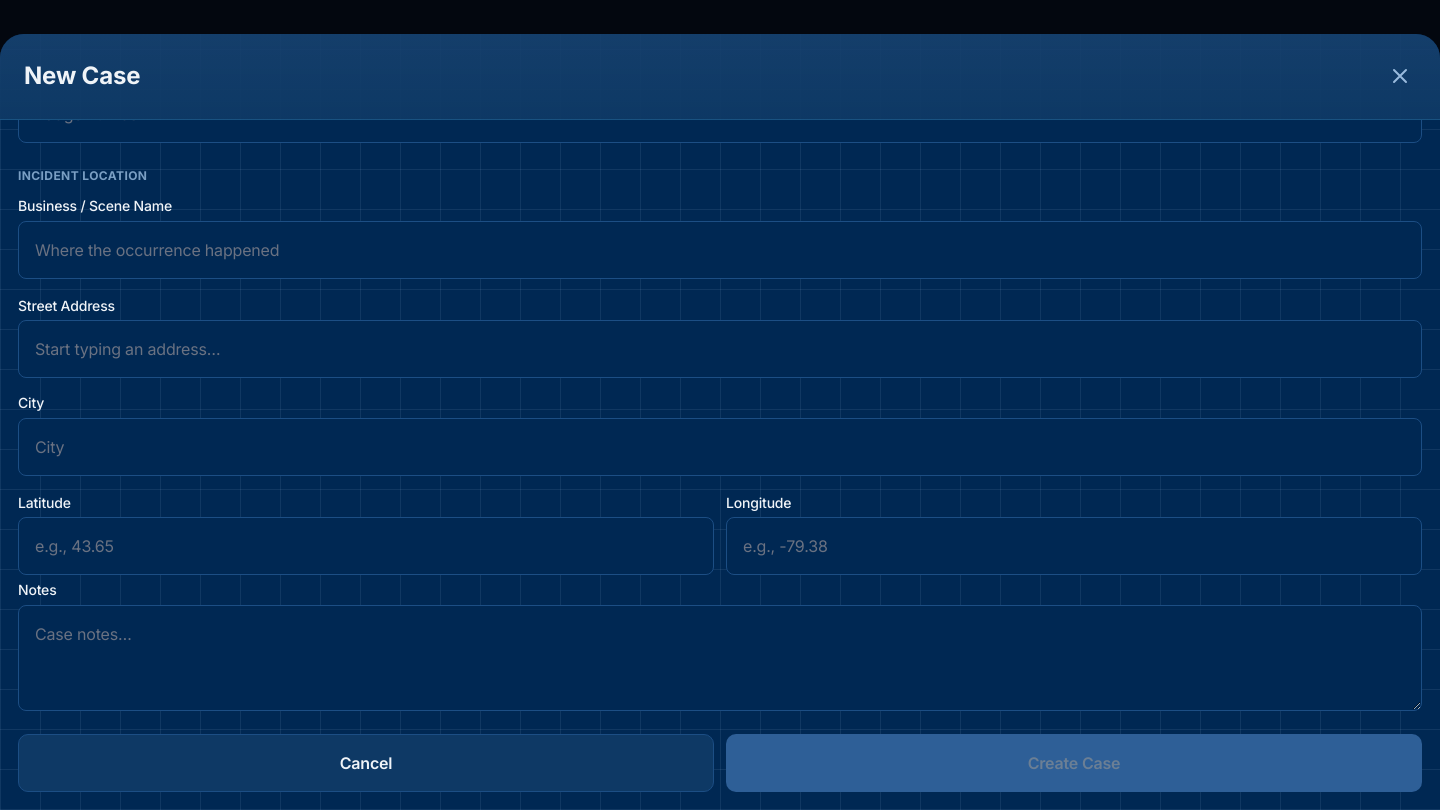
Test: NewCaseModal — required-field gate › flags only the field that is actually missing
This screenshot has width=1440, height=810.
(page scrolled)
Click the button "Create Case".
click(1074, 763)  # box [726,734,1422,792]
(page scrolled)
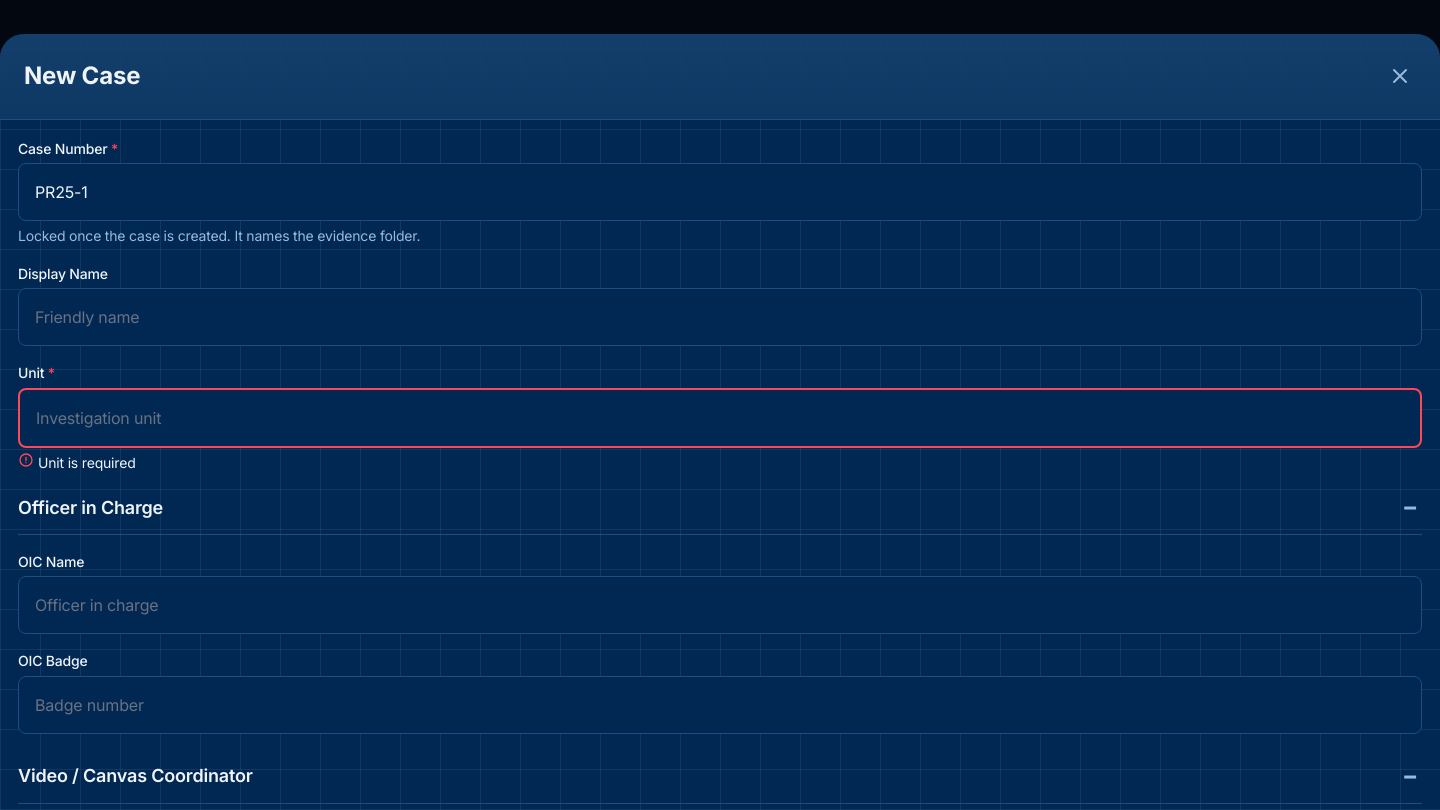
Check: the text "Unit is required" is shown, box [18,452,136,471]
